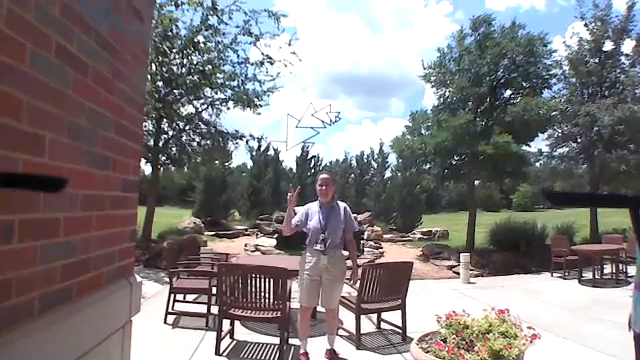peace: (281, 178, 303, 211)
